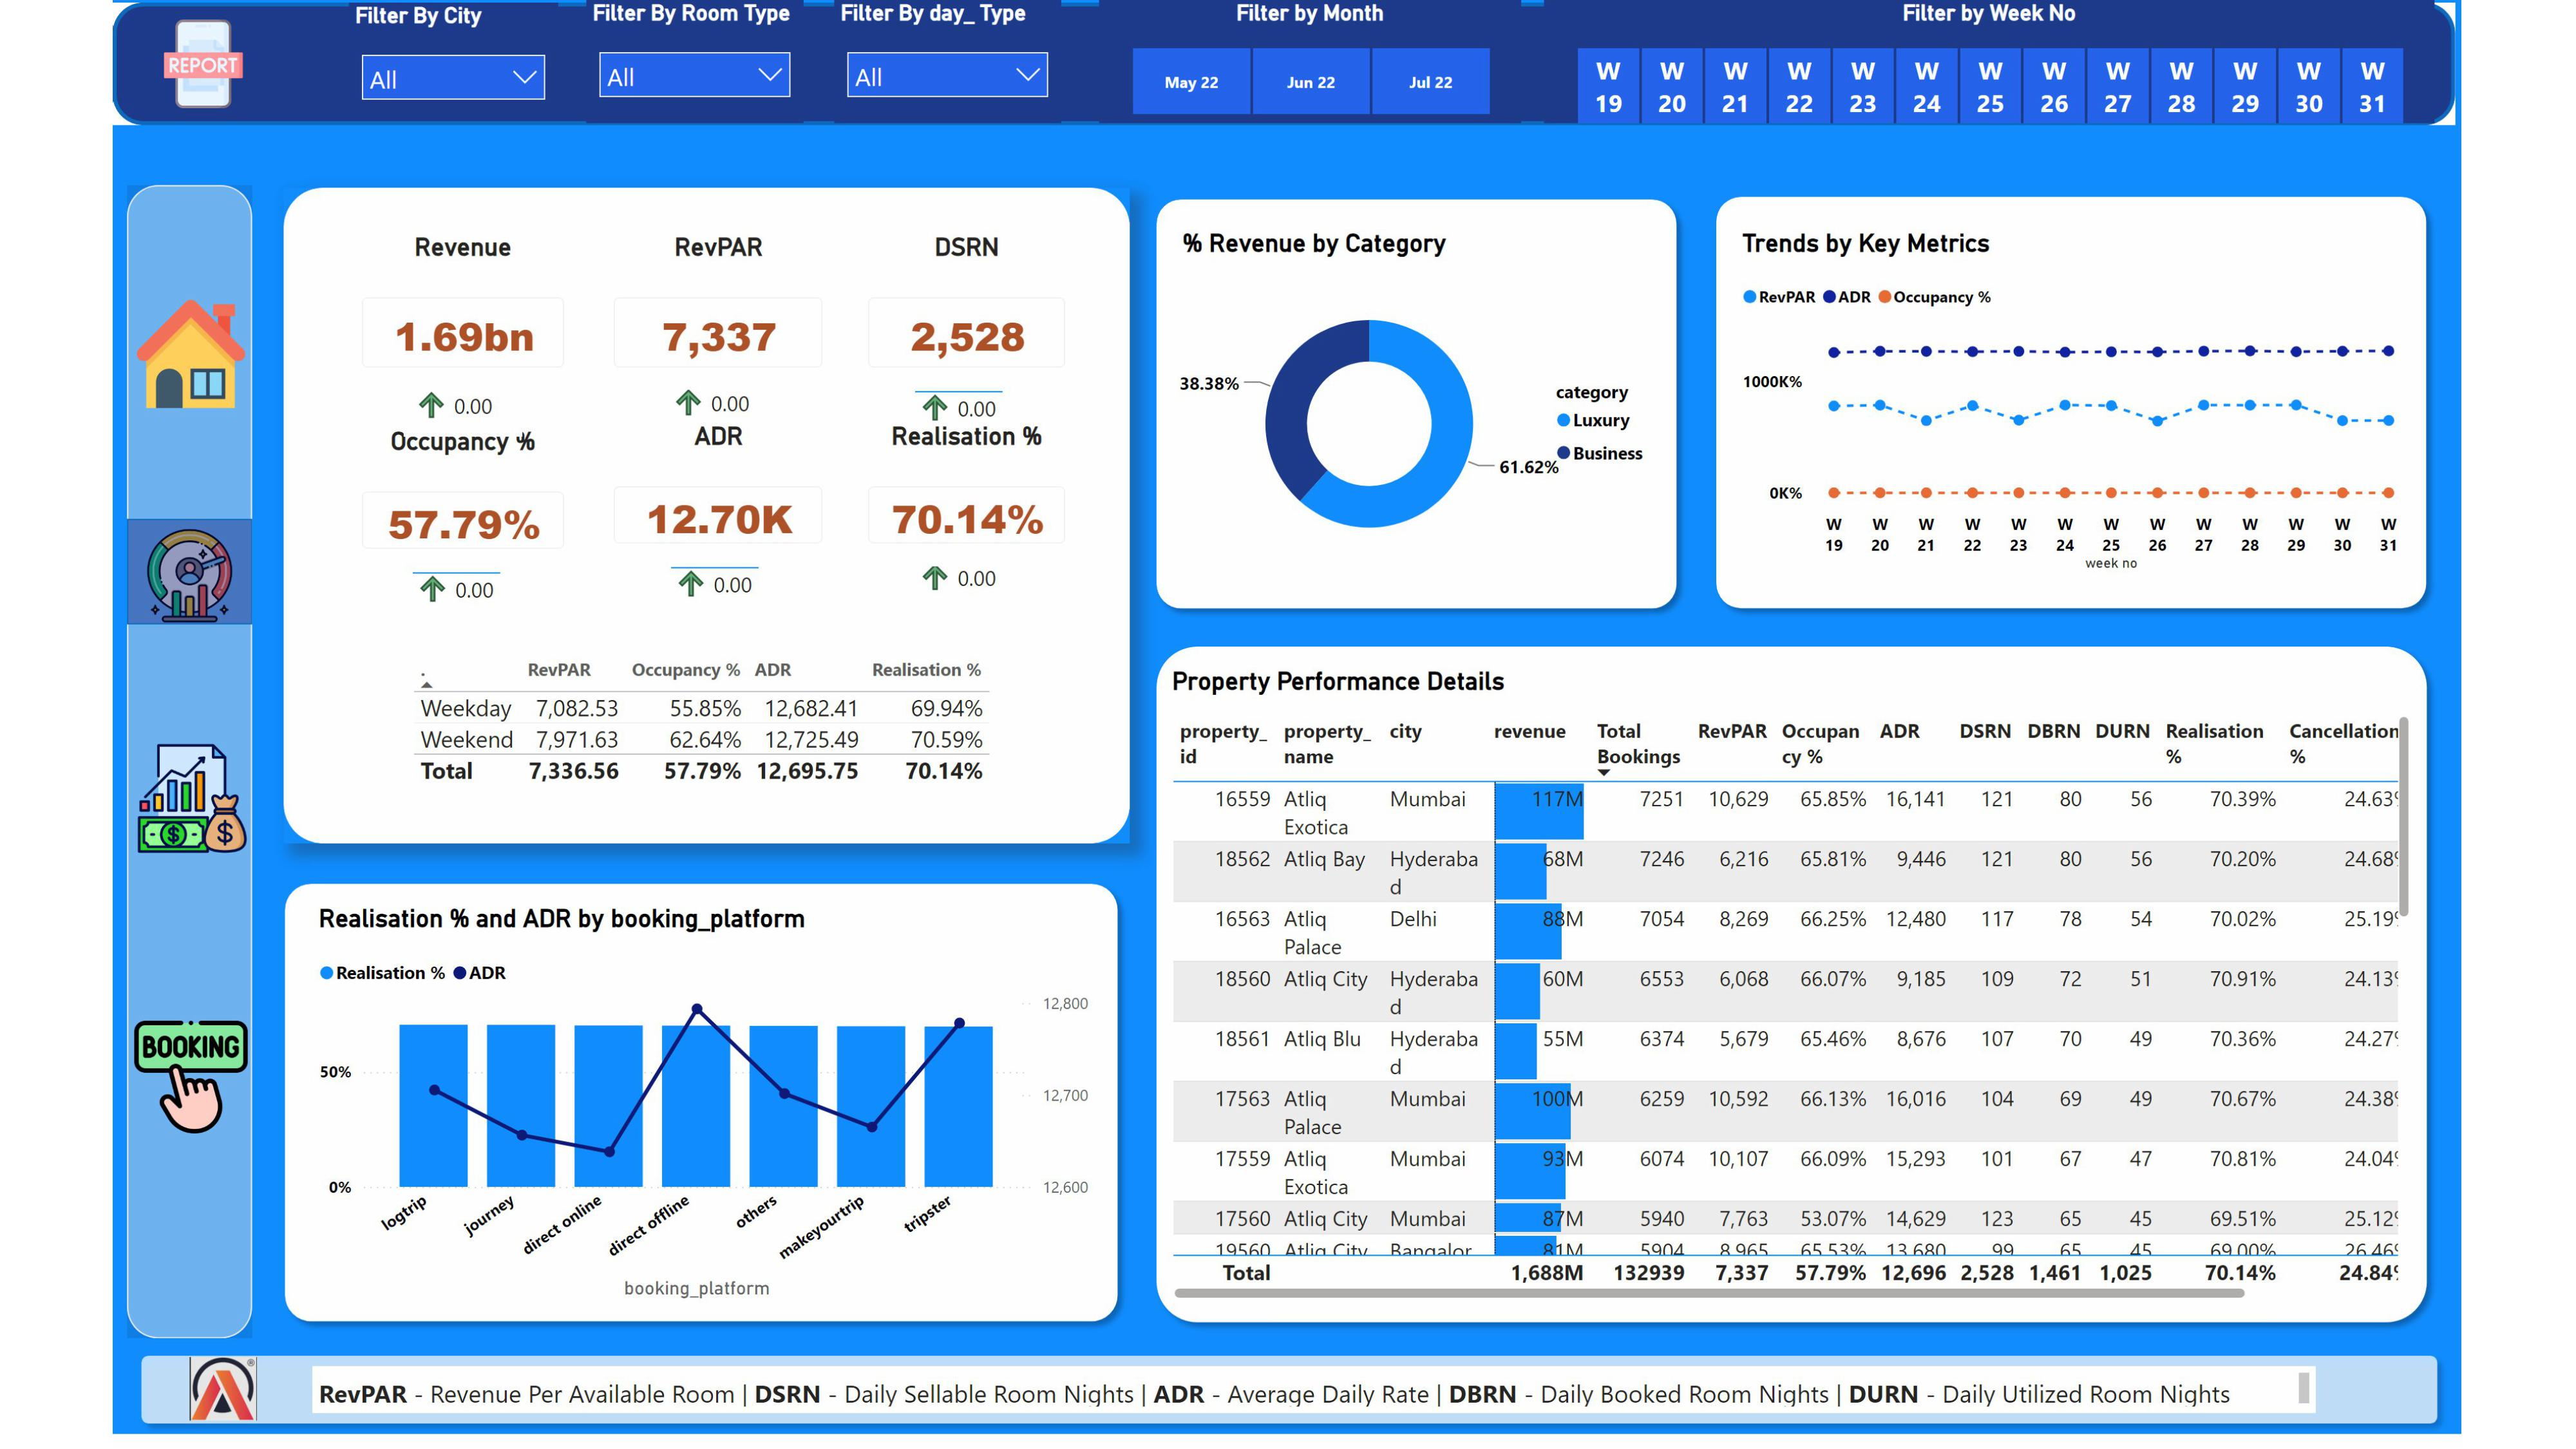

Layout of this report page (visuals, bound fields, positions):
{"tool":"powerbi","page":{"name":"Performanace Overview","canvas":[1800,1100],"ordinal":0},"visuals":[{"type":"shape","box":[790.7,486.6,991.6,536.4],"z":0},{"type":"shape","box":[0,1.8,1795.3,94],"z":1000},{"type":"shape","box":[123.5,669.1,656.2,353.6],"z":2000},{"type":"shape","box":[1220.2,141.9,562.2,333.6],"z":3000},{"type":"shape","box":[790.7,143.8,416.6,331.8],"z":4000},{"type":"shape","box":[130.9,143.8,648.7,503],"z":5000},{"type":"slicer","title":"Filter by Week No","fields":{"Values":["dim_date.week no"]},"box":[1096.7,0,682.7,94.6],"z":6000},{"type":"slicer","title":"Filter by Month","fields":{"Values":["dim_date.mmm yy"]},"box":[755.7,0,323.4,94.6],"z":7000},{"type":"tableEx","title":"Property Performance Details","fields":{"Values":["dim_hotels.property_id","dim_hotels.property_name","dim_hotels.city","key_measures.revenue","key_measures.Total Bookings","key_measures.RevPAR","key_measures.Occupancy %","key_measures.ADR","key_measures.DSRN","key_measures.DBRN","key_measures.DURN","key_measures.Realisation %"]},"box":[807.3,510.6,958.5,490.3],"z":8000},{"type":"slicer","title":"Filter By City","fields":{"Values":["dim_hotels.city"]},"box":[180.6,1.8,160.4,90.3],"z":9000},{"type":"slicer","title":"Filter By Room Type","fields":{"Values":["dim_rooms.room_class"]},"box":[363.1,0,166.4,94.6],"z":10000},{"type":"donutChart","title":"% Revenue by Category","fields":{"Category":["dim_hotels.category"],"Y":["key_measures.revenue"]},"box":[814.7,175.1,374.2,267.3],"z":11000},{"type":"lineChart","title":"Trends by Key Metrics","fields":{"Category":["dim_date.mmm yy.Variation.Date Hierarchy.Month","dim_date.week no"],"Y":["key_measures.RevPAR","key_measures.ADR","key_measures.Occupancy %"]},"box":[1244.1,175.1,521.6,267.3],"z":12000},{"type":"lineStackedColumnComboChart","fields":{"Category":["fact_bookings.booking_platform"],"Y":["key_measures.Realisation %"],"Y2":["key_measures.ADR"]},"box":[153,693,602.7,307.8],"z":13000},{"type":"tableEx","fields":{"Values":["dim_date.day_type","key_measures.RevPAR","key_measures.Occupancy %","key_measures.ADR","key_measures.Realisation %"]},"box":[225,499.3,459.6,111.6],"z":14000},{"type":"tableEx","fields":{"Values":["key_measures.Revenue WoW change %"]},"box":[419.8,262.9,90.8,68.1],"z":15000},{"type":"cardVisual","title":"RevPAR","fields":{"Data":["key_measures.RevPAR"]},"box":[366.8,177.8,194.8,121],"z":16000},{"type":"tableEx","fields":{"Values":["key_measures.Revenue WoW change %"]},"box":[608.9,266.7,90,69],"z":17000},{"type":"cardVisual","title":"DSRN","fields":{"Data":["key_measures.DSRN"]},"box":[561.6,177.8,185.3,121],"z":18000},{"type":"tableEx","fields":{"Values":["key_measures.Revenue WoW change %"]},"box":[223.8,405.5,90,69],"z":19000},{"type":"tableEx","fields":{"Values":["key_measures.Revenue WoW change %"]},"box":[422.4,401.7,90,69],"z":20000},{"type":"cardVisual","title":"ADR","fields":{"Data":["key_measures.ADR"]},"box":[366.8,323.4,194.8,111.6],"z":21000},{"type":"tableEx","fields":{"Values":["key_measures.Revenue WoW change %"]},"box":[608.9,397.2,90,69],"z":22000},{"type":"cardVisual","title":"Realisation %","fields":{"Data":["key_measures.Realisation %"]},"box":[561.6,323.4,185.3,111.6],"z":23000},{"type":"cardVisual","title":"Occupancy %","fields":{"Data":["key_measures.Occupancy %"]},"box":[173.9,327.2,189.1,111.6],"z":24000},{"type":"tableEx","fields":{"Values":["key_measures.Revenue WoW change %"]},"box":[223.1,264.8,90.8,70],"z":25000},{"type":"cardVisual","title":"Revenue","fields":{"Data":["key_measures.revenue"]},"box":[173.9,177.8,189.1,121],"z":26000},{"type":"shape","box":[13.2,1030.7,1777.7,70],"z":27000},{"type":"image","box":[46.8,1041.1,75.2,48.8],"z":28000},{"type":"textbox","box":[153.2,1047.7,1535.6,35.9],"z":29000},{"type":"slicer","title":"Filter By day_ Type","fields":{"Values":["dim_date.day_type"]},"box":[553,0,174,94.6],"z":30000},{"type":"image","title":"Report Switch","box":[11.1,14.7,117.3,68.1],"z":31000},{"type":"group","id":"g1","title":"Menu","box":[81.1,91.5,544.7,102.3],"z":32000},{"type":"shape","box":[11.1,141.9,95.8,884.7],"z":33000},{"type":"image","box":[11.1,230.4,97.7,82.9],"z":34000},{"type":"image","box":[11.1,405.5,95.8,73.7],"z":35000},{"type":"image","box":[14.7,569.5,92.2,84.8],"z":36000},{"type":"image","box":[12.9,783.3,94,86.6],"z":37000},{"type":"shape","box":[11.1,398.1,95.8,81.1],"z":38000}]}

Visuals, with their boxes on the page's 1800x1100 design canvas (x1, y1, x2, y2). These are canvas units, not pixel positions in the 2576x1449 screenshot, which may show the page scaled, cropped or inside an application window:
shape: Rect(791, 487, 1782, 1023)
shape: Rect(0, 2, 1795, 96)
shape: Rect(124, 669, 780, 1023)
shape: Rect(1220, 142, 1782, 476)
shape: Rect(791, 144, 1207, 476)
shape: Rect(131, 144, 780, 647)
"Filter by Week No" slicer: Rect(1097, 0, 1779, 95)
"Filter by Month" slicer: Rect(756, 0, 1079, 95)
"Property Performance Details" tableEx: Rect(807, 511, 1766, 1001)
"Filter By City" slicer: Rect(181, 2, 341, 92)
"Filter By Room Type" slicer: Rect(363, 0, 530, 95)
"% Revenue by Category" donutChart: Rect(815, 175, 1189, 442)
"Trends by Key Metrics" lineChart: Rect(1244, 175, 1766, 442)
lineStackedColumnComboChart - fact_bookings.booking_platform x key_measures.Realisation %: Rect(153, 693, 756, 1001)
tableEx - dim_date.day_type x key_measures.RevPAR: Rect(225, 499, 685, 611)
tableEx - key_measures.Revenue WoW change %: Rect(420, 263, 511, 331)
"RevPAR" cardVisual: Rect(367, 178, 562, 299)
tableEx - key_measures.Revenue WoW change %: Rect(609, 267, 699, 336)
"DSRN" cardVisual: Rect(562, 178, 747, 299)
tableEx - key_measures.Revenue WoW change %: Rect(224, 406, 314, 474)
tableEx - key_measures.Revenue WoW change %: Rect(422, 402, 512, 471)
"ADR" cardVisual: Rect(367, 323, 562, 435)
tableEx - key_measures.Revenue WoW change %: Rect(609, 397, 699, 466)
"Realisation %" cardVisual: Rect(562, 323, 747, 435)
"Occupancy %" cardVisual: Rect(174, 327, 363, 439)
tableEx - key_measures.Revenue WoW change %: Rect(223, 265, 314, 335)
"Revenue" cardVisual: Rect(174, 178, 363, 299)
shape: Rect(13, 1031, 1791, 1101)
image: Rect(47, 1041, 122, 1090)
textbox: Rect(153, 1048, 1689, 1084)
"Filter By day_ Type" slicer: Rect(553, 0, 727, 95)
"Report Switch" image: Rect(11, 15, 128, 83)
"Menu" group: Rect(81, 92, 626, 194)
shape: Rect(11, 142, 107, 1027)
image: Rect(11, 230, 109, 313)
image: Rect(11, 406, 107, 479)
image: Rect(15, 570, 107, 654)
image: Rect(13, 783, 107, 870)
shape: Rect(11, 398, 107, 479)
